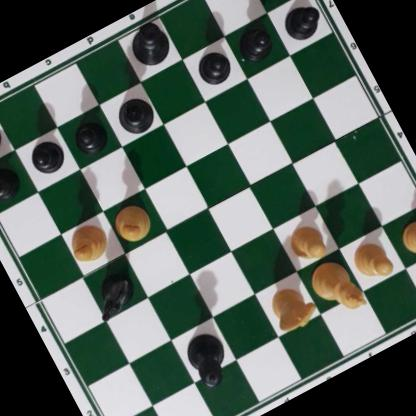black-bishop: (110, 91, 161, 141)
black-king: (120, 16, 177, 73)
black-knight: (82, 262, 143, 324)
black-pawn: (277, 0, 326, 46), (233, 21, 277, 66), (191, 44, 235, 89), (24, 135, 68, 180), (67, 114, 111, 158), (0, 159, 23, 205)
black-queen: (176, 325, 240, 395)
black-rook: (0, 108, 7, 168), (249, 0, 309, 2)
white-bishop: (62, 218, 115, 270), (107, 197, 159, 250)
white-king: (304, 253, 366, 322)
white-knight: (262, 279, 323, 340)
white-pawn: (347, 234, 398, 287), (282, 217, 330, 266), (395, 212, 416, 262)
